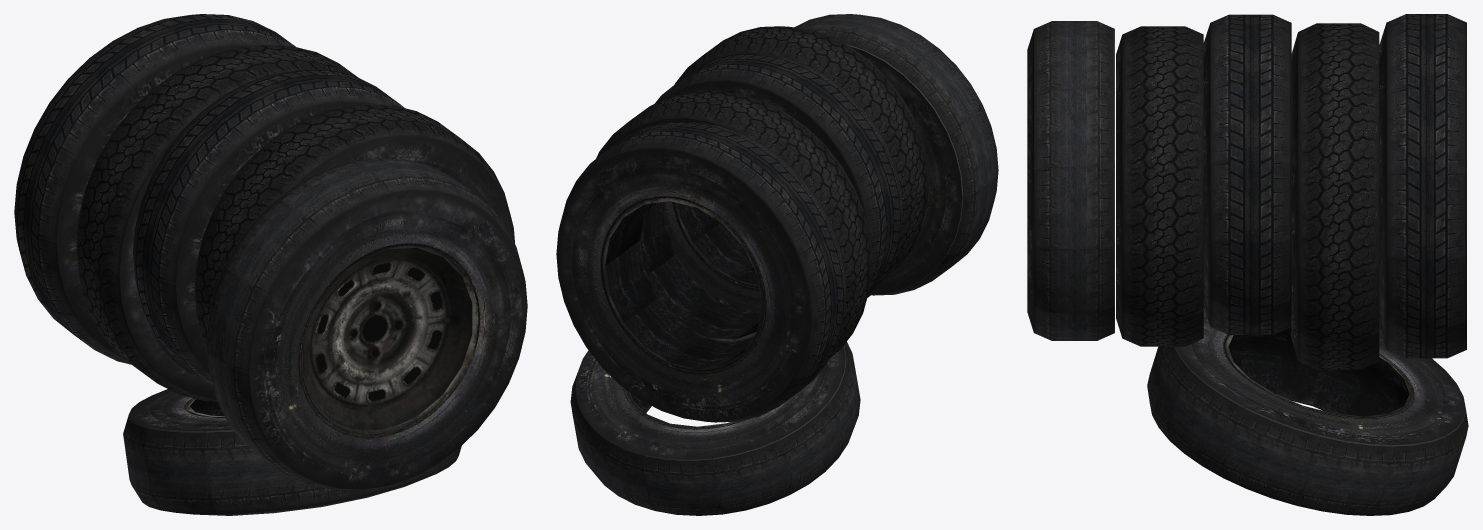
File: Roues.obj
The picture shows the model from 3 angles, left to right: view 1: azimuth 30°, elevation 25°; view 2: azimuth 150°, elevation 25°; view 3: azimuth 270°, elevation 25°; orthographic projection. The views are drawn at different scales.
Parts seen in each view (by area): view 1: Roue1, Roue6, Roue4, Roue5, Roue2, Roue3; view 2: Roue6, Roue3, Roue4, Roue1, Roue5, Roue2; view 3: Roue3, Roue5, Roue6, Roue4, Roue2, Roue1.
Part boxes in pixels (x1,y1,x2,y2): Roue1: (206,158,527,490); Roue6: (14,14,295,364); Roue4: (133,69,404,385); Roue5: (76,45,357,401); Roue2: (194,104,514,349); Roue3: (123,389,461,515); Roue6: (556,122,846,422); Roue3: (570,341,860,515); Roue4: (655,54,902,312); Roue1: (794,14,998,295); Roue5: (596,90,872,358); Roue2: (674,26,929,276); Roue3: (1147,307,1468,515); Roue5: (1291,23,1379,369); Roue6: (1379,14,1466,358); Roue4: (1203,14,1291,334); Roue2: (1116,26,1203,346); Roue1: (1027,21,1114,340).
Size of the model in its own units: 1.75 by 2.2 by 2.02.
Materials: 1 (1 with a texture image).
